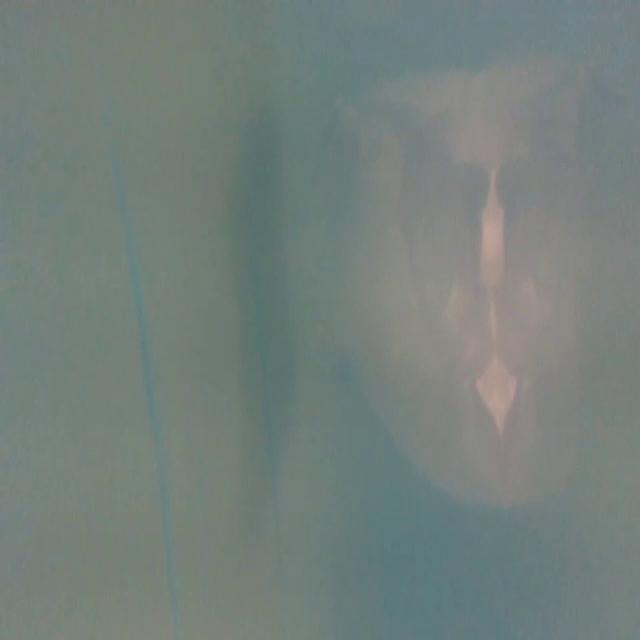plastic bags: (329, 41, 607, 532)
